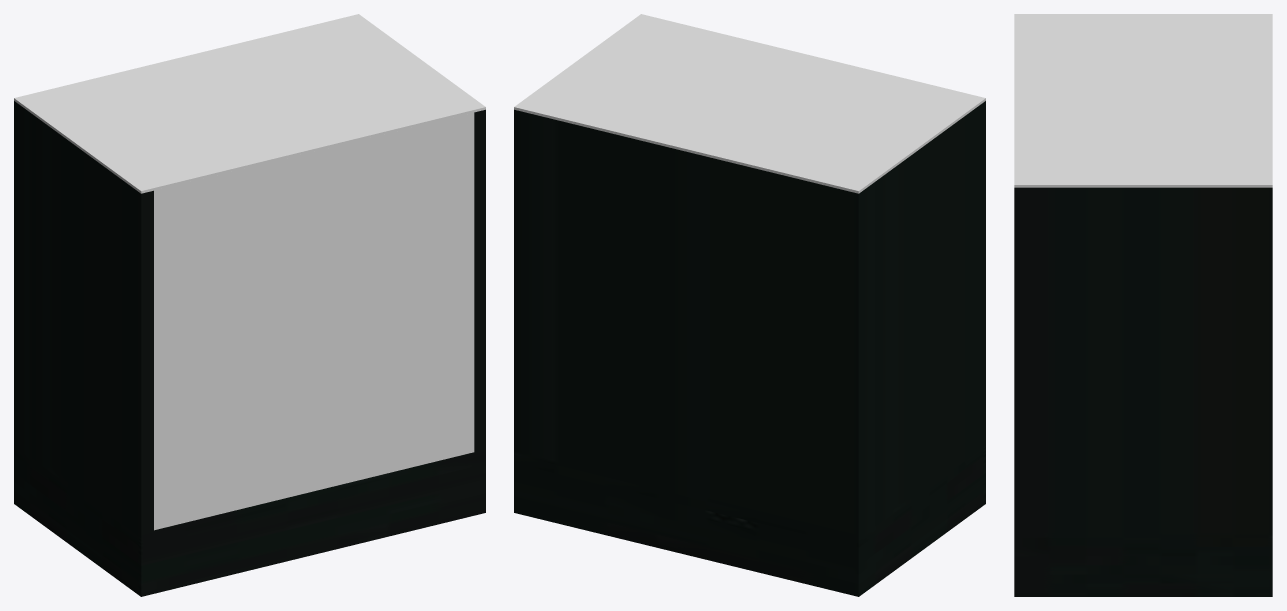
The model's file is Glass Showcase.fbx.
3 renders of one model, left to right at view 1: azimuth 30°, elevation 25°; view 2: azimuth 150°, elevation 25°; view 3: azimuth 270°, elevation 25°, orthographic.
Parts seen in each view (by area): view 1: Glass Cover, Case, Glass Top; view 2: Case, Glass Top; view 3: Case, Glass Top.
Boxes of the visible parts, x1,y1,x2,y2 form: Glass Cover: (154, 112, 474, 530); Case: (14, 101, 485, 596); Glass Top: (14, 14, 485, 193); Case: (514, 101, 985, 596); Glass Top: (514, 14, 985, 193); Case: (1014, 187, 1272, 596); Glass Top: (1014, 14, 1272, 187).
Size of the model in its own units: 624 by 702 by 398.
